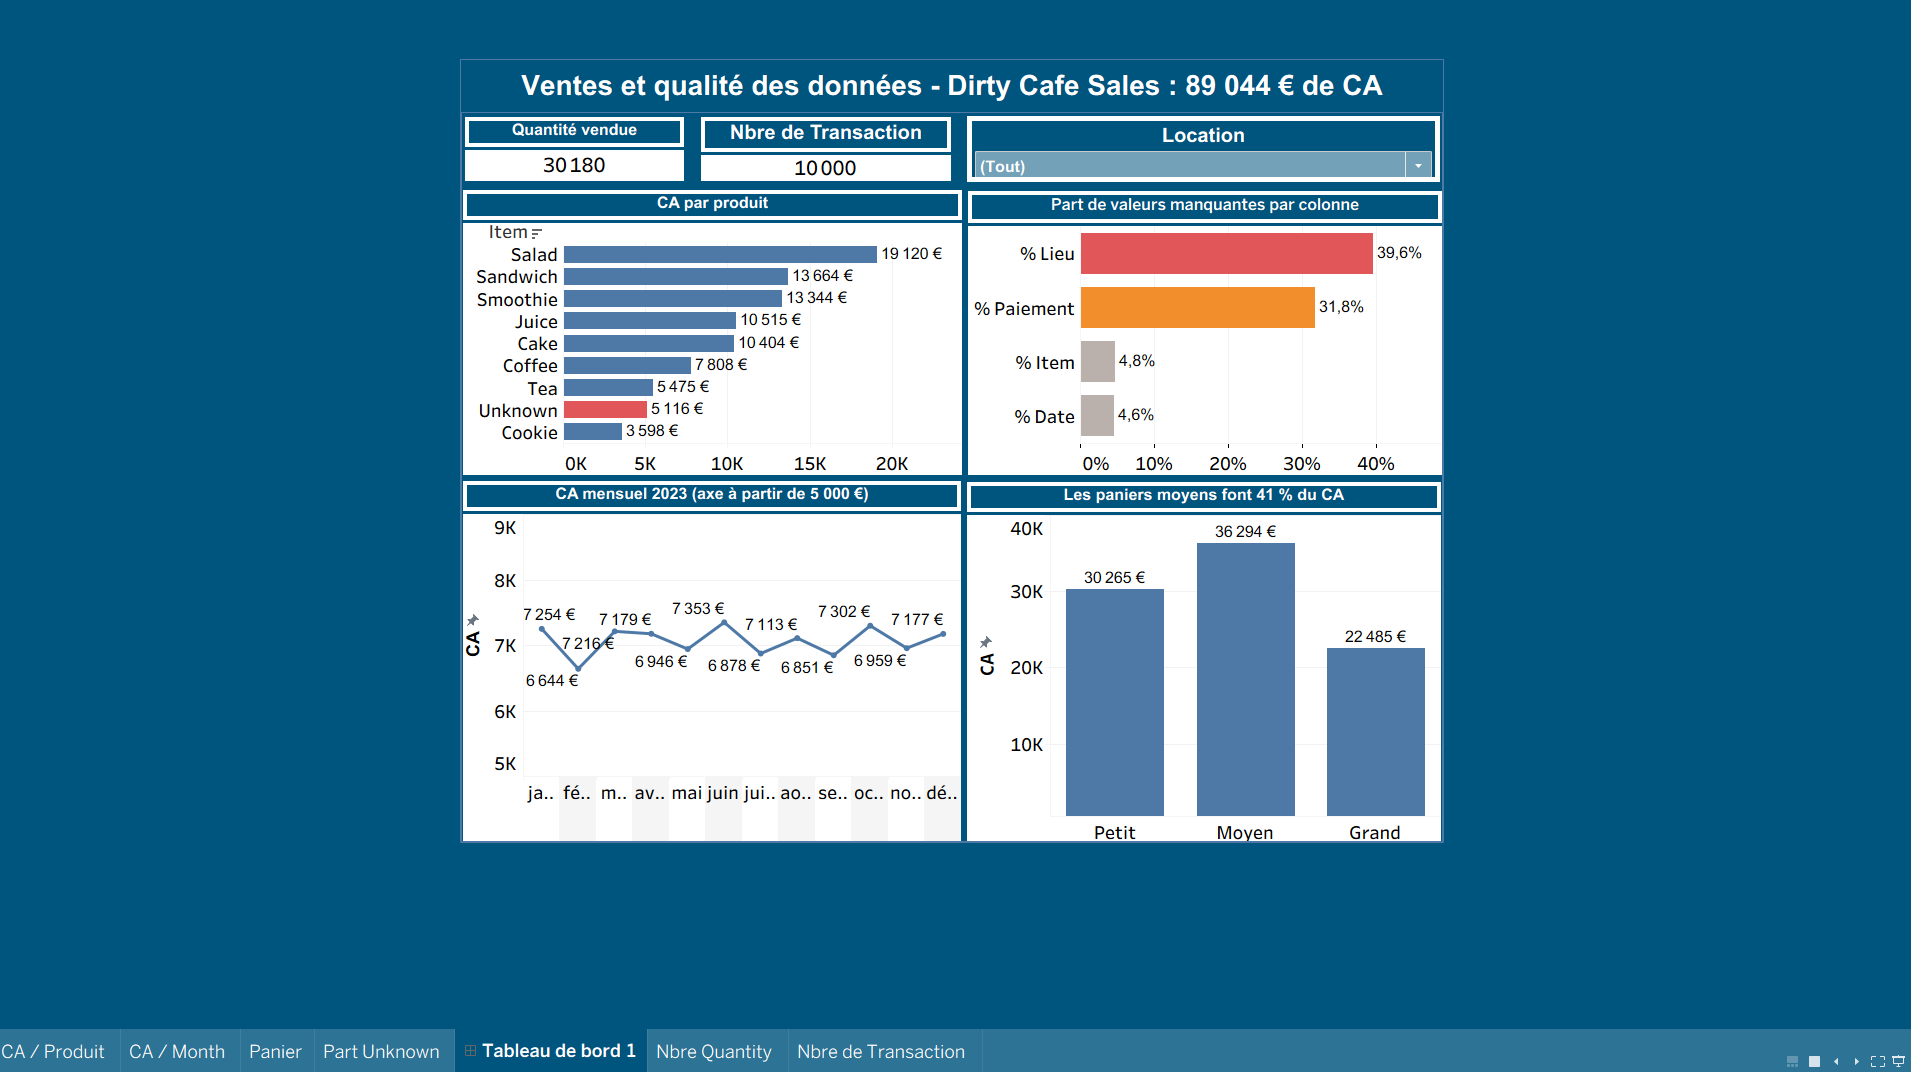

Layout of this report page (visuals, bound fields, positions):
{"tool":"tableau","page":{"name":"Tableau de bord 1","canvas":[1000,800],"ordinal":0},"visuals":[{"type":"title","box":[9,9,982,52]},{"type":"filter","title":"CA / Produit","param":"[federated.1he3dhf0yvz5r410kzvur0cfz0q6].[none:location:nk]","box":[515,65,473,66]},{"type":"worksheet","title":"Nbre Quantity","mark":"Automatic","box":[13,66,219,64]},{"type":"worksheet","title":"Nbre de Transaction","mark":"Automatic","box":[249,66,250,64]},{"type":"worksheet","title":"CA / Produit","mark":"Automatic","rows":["item"],"cols":["total_spent"],"box":[11,139,499,285]},{"type":"worksheet","title":"Part Unknown","mark":"Automatic","box":[516,140,474,284]},{"type":"worksheet","title":"CA / Month","mark":"Automatic","rows":["total_spent"],"cols":["transaction_date"],"box":[11,430,498,360]},{"type":"worksheet","title":"Panier","mark":"Automatic","rows":["total_spent"],"cols":["Calculation_0382696466251776"],"box":[515,431,474,359]}]}

Visuals, with their boxes on the page's 1000x800 design canvas (x1, y1, x2, y2). These are canvas units, not pixel positions in the 1911x1072 screenshot, which may show the page scaled, cropped or inside an application window:
title: crop(9, 9, 991, 61)
"CA / Produit" filter: crop(515, 65, 988, 131)
"Nbre Quantity" worksheet: crop(13, 66, 232, 130)
"Nbre de Transaction" worksheet: crop(249, 66, 499, 130)
"CA / Produit" worksheet: crop(11, 139, 510, 424)
"Part Unknown" worksheet: crop(516, 140, 990, 424)
"CA / Month" worksheet: crop(11, 430, 509, 790)
"Panier" worksheet: crop(515, 431, 989, 790)
